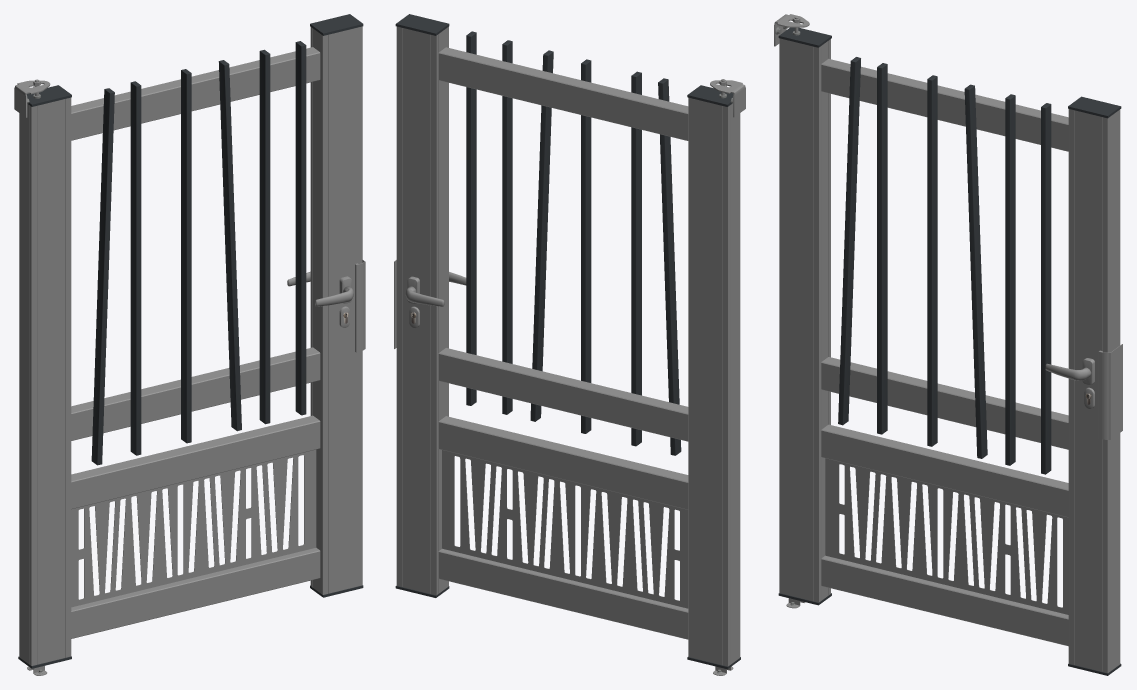
The picture shows the model from 3 angles, left to right: view 1: azimuth 30°, elevation 25°; view 2: azimuth 150°, elevation 25°; view 3: azimuth 330°, elevation 25°; orthographic projection.
Visible parts, largest first — view 1: Shape107412643, Shape107412644, bambou001, Shape107412271, Shape107412282, Shape107412283, Shape107412273, Box2395, Box2398, Box2399, Box2394, Box2397 (+5 smaller); view 2: Shape107412643, Shape107412644, bambou001, Shape107412271, Shape107412273, Shape107412283, Shape107412282, Box2394, Box2397, Box2395, Box2399, Box2398 (+4 smaller); view 3: Shape107412643, Shape107412644, bambou001, Shape107412271, Shape107412282, Shape107412283, Shape107412273, Box2397, Box2395, Box2396, Box2398, Box2394 (+4 smaller).
Boxes of the visible parts, x1,y1,x2,y2 form: Shape107412643: [19, 97, 71, 665]; Shape107412644: [310, 26, 362, 594]; bambou001: [71, 449, 316, 607]; Shape107412271: [71, 415, 320, 509]; Shape107412282: [71, 547, 320, 638]; Shape107412283: [71, 47, 320, 140]; Shape107412273: [71, 347, 320, 440]; Box2395: [130, 81, 141, 455]; Box2398: [259, 49, 270, 424]; Box2399: [295, 41, 306, 415]; Box2394: [91, 88, 114, 465]; Box2397: [218, 60, 241, 431]; Shape107412643: [688, 97, 740, 666]; Shape107412644: [396, 26, 448, 595]; bambou001: [442, 450, 688, 608]; Shape107412271: [438, 416, 688, 509]; Shape107412273: [438, 348, 688, 441]; Shape107412283: [438, 47, 688, 140]; Shape107412282: [438, 548, 688, 639]; Box2394: [658, 78, 681, 455]; Box2397: [530, 50, 553, 421]; Box2395: [631, 71, 641, 446]; Box2399: [466, 31, 476, 405]; Box2398: [502, 40, 512, 414]; Shape107412643: [779, 38, 830, 602]; Shape107412644: [1068, 109, 1120, 672]; bambou001: [825, 458, 1068, 614]; Shape107412271: [821, 424, 1068, 517]; Shape107412282: [821, 555, 1068, 646]; Shape107412283: [821, 59, 1068, 151]; Shape107412273: [821, 357, 1068, 449]; Box2397: [964, 84, 987, 458]; Box2395: [877, 63, 887, 434]; Box2396: [927, 75, 937, 446]; Box2398: [1005, 94, 1015, 465]; Box2394: [838, 57, 860, 425].
Size of the model in its own units: 1014 by 1688 by 171.
Materials: 8 (4 with a texture image).
